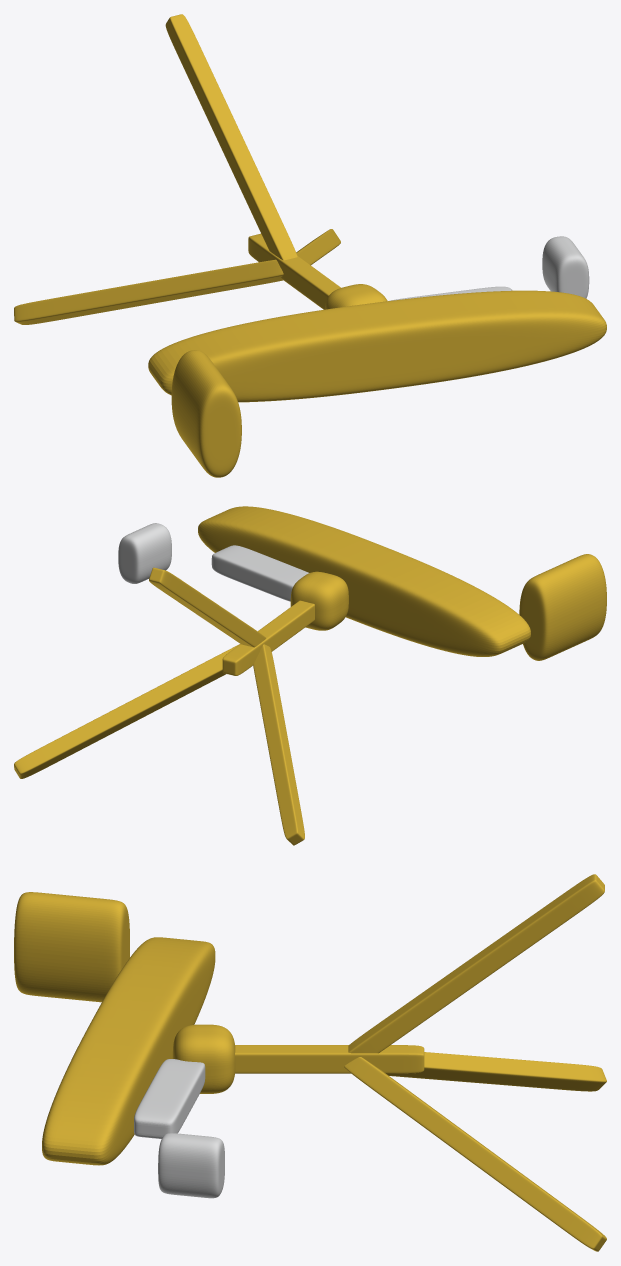
File: astronomical_telescope_sq.glb
3 views of the same model, one above another, from view 1: azimuth 30°, elevation 25°; view 2: azimuth 150°, elevation 25°; view 3: azimuth 270°, elevation 25° (orthographic). The views are drawn at different scales.
Parts seen in each view (by area): view 1: superquadric_0, superquadric_7, superquadric_1, superquadric_5, superquadric_2, superquadric_4, superquadric_3, superquadric_6; view 2: superquadric_0, superquadric_1, superquadric_6, superquadric_5, superquadric_8, superquadric_7, superquadric_2, superquadric_3, superquadric_4; view 3: superquadric_0, superquadric_1, superquadric_7, superquadric_6, superquadric_5, superquadric_4, superquadric_2, superquadric_8, superquadric_3.
Boxes of the visible parts, bbox=[...] form: superquadric_0: bbox=[148, 290, 606, 402]; superquadric_7: bbox=[165, 14, 297, 260]; superquadric_1: bbox=[171, 350, 241, 477]; superquadric_5: bbox=[14, 259, 283, 324]; superquadric_2: bbox=[542, 236, 589, 298]; superquadric_4: bbox=[248, 233, 340, 309]; superquadric_3: bbox=[325, 284, 387, 309]; superquadric_6: bbox=[296, 229, 340, 265]; superquadric_0: bbox=[198, 506, 530, 656]; superquadric_1: bbox=[519, 554, 606, 660]; superquadric_6: bbox=[14, 644, 239, 778]; superquadric_5: bbox=[253, 644, 304, 845]; superquadric_8: bbox=[211, 545, 309, 601]; superquadric_7: bbox=[149, 567, 266, 647]; superquadric_2: bbox=[118, 523, 171, 583]; superquadric_3: bbox=[290, 571, 348, 630]; superquadric_4: bbox=[222, 600, 314, 675]; superquadric_0: bbox=[42, 937, 215, 1165]; superquadric_1: bbox=[14, 892, 129, 1002]; superquadric_7: bbox=[348, 874, 604, 1053]; superquadric_6: bbox=[344, 1057, 606, 1251]; superquadric_5: bbox=[386, 1052, 606, 1091]; superquadric_4: bbox=[235, 1045, 424, 1073]; superquadric_2: bbox=[158, 1133, 224, 1198]; superquadric_8: bbox=[134, 1059, 205, 1138]; superquadric_3: bbox=[172, 1024, 235, 1093].
Size of the model in its own units: 0.9691 by 0.5469 by 1.
